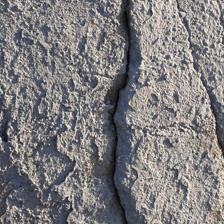Crack: (50, 2, 92, 219)
